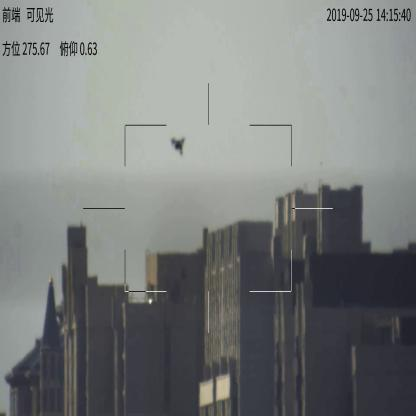uav: (170, 136, 186, 158)
